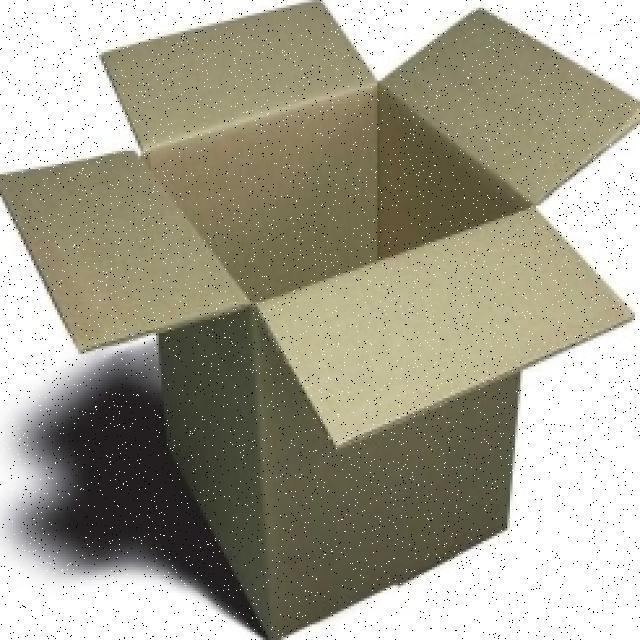box: (21, 5, 627, 640)
